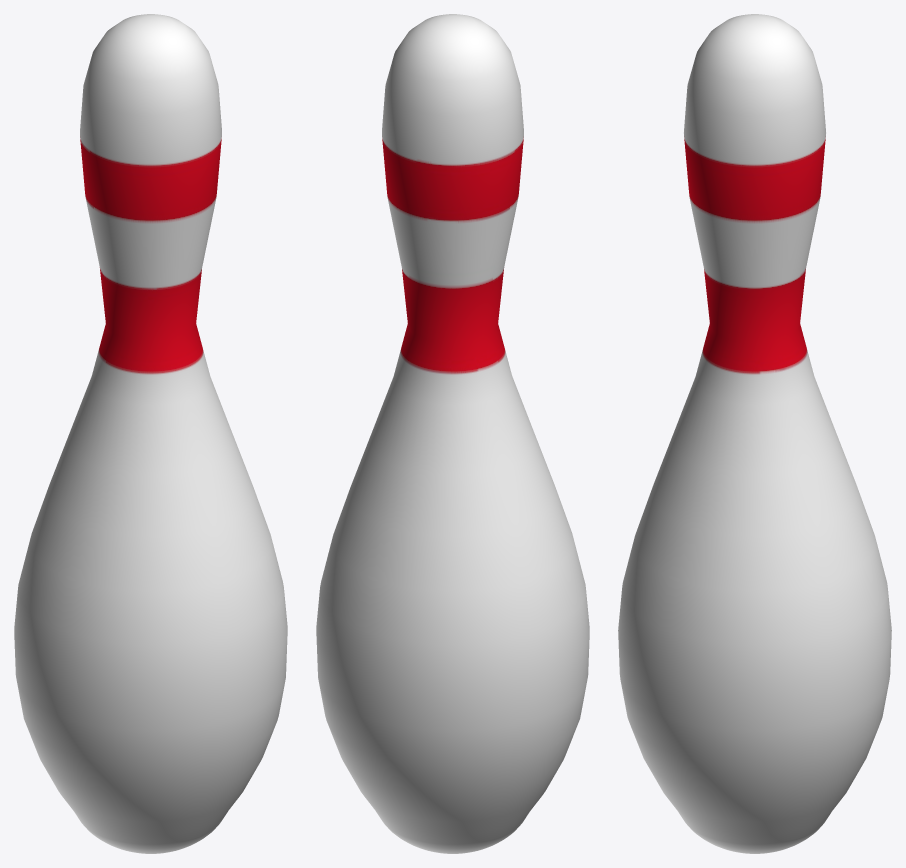
The model's file is pin.obj.
3 views of the same model, side by side, from view 1: azimuth 30°, elevation 25°; view 2: azimuth 150°, elevation 25°; view 3: azimuth 270°, elevation 25° (orthographic).
Parts seen in each view (by area): view 1: Sphere_Sphere.003; view 2: Sphere_Sphere.003; view 3: Sphere_Sphere.003.
Boxes of the visible parts, <box> form: Sphere_Sphere.003: <box>14,14,287,853</box>; Sphere_Sphere.003: <box>316,14,589,853</box>; Sphere_Sphere.003: <box>618,14,891,853</box>.
Bounding box in the file's own units: 3.1 × 10.29 × 3.1.
Materials: 1 (1 with a texture image).
